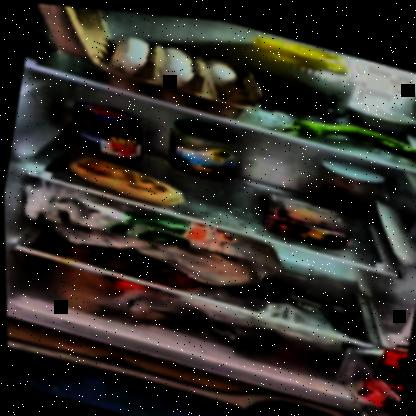eggs: (115, 33, 240, 97)
green_chillies: (282, 103, 415, 160)
olives: (255, 67, 341, 112)
